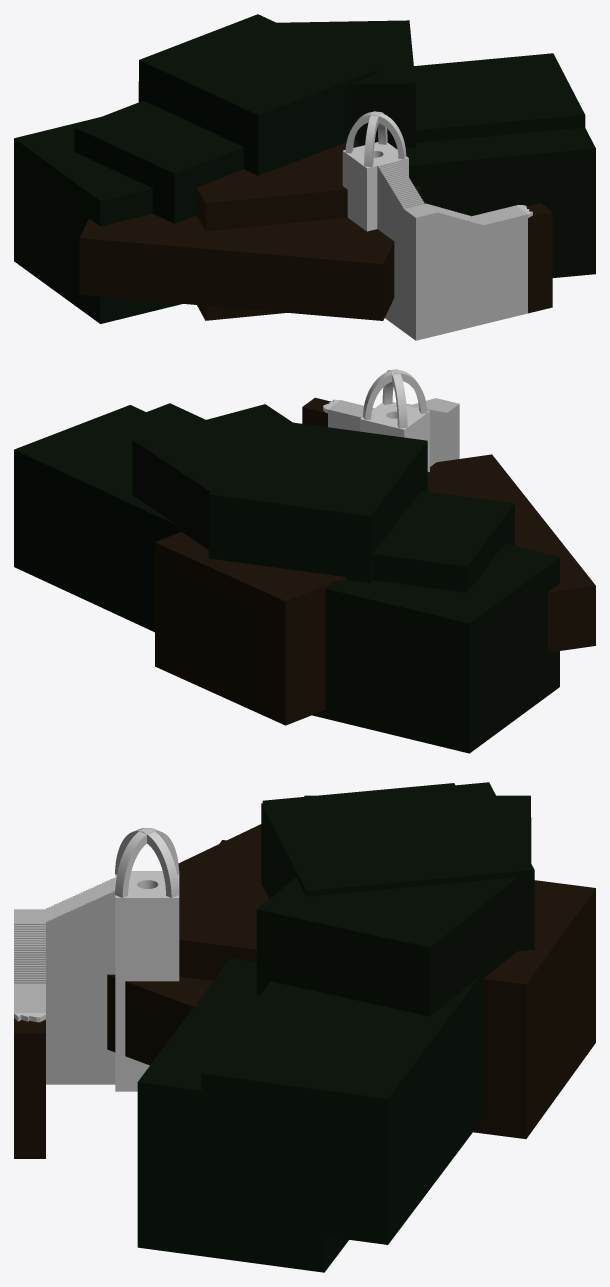
Rendered from ElevatorBridge1.fbx.
3 renders of one model, top to bottom at view 1: azimuth 30°, elevation 25°; view 2: azimuth 150°, elevation 25°; view 3: azimuth 270°, elevation 25°, orthographic. The views are drawn at different scales.
Visible parts, largest first — view 1: Box67, Box523, Box545, Box267, Box524, Box520, Box10, Box268, Box521, Box8, Boolean8, Box11 (+5 smaller); view 2: Box267, Box523, Box268, Box524, Box520, Box521, Box67, Boolean8, Boolean33, Box8, Box10, Boolean32 (+3 smaller); view 3: Box524, Box545, Box268, Box521, Box523, Box9, Boolean8, Box67, Box11, Stairs5, Stairs6, Boolean32 (+3 smaller).
Part boxes in pixels (bbox=[...]): Box67: bbox=[79, 186, 420, 320]; Box523: bbox=[139, 14, 377, 175]; Box545: bbox=[396, 127, 595, 277]; Box267: bbox=[14, 117, 182, 323]; Box524: bbox=[414, 53, 585, 142]; Box520: bbox=[74, 100, 243, 223]; Box10: bbox=[437, 205, 527, 335]; Box268: bbox=[138, 81, 359, 320]; Box521: bbox=[277, 20, 415, 148]; Box8: bbox=[403, 204, 436, 340]; Boolean8: bbox=[342, 142, 408, 231]; Box11: bbox=[526, 203, 552, 313]; Box267: bbox=[312, 543, 559, 753]; Box523: bbox=[208, 419, 427, 582]; Box268: bbox=[155, 472, 489, 725]; Box524: bbox=[14, 405, 178, 632]; Box520: bbox=[373, 490, 514, 592]; Box521: bbox=[132, 404, 292, 549]; Box67: bbox=[430, 454, 595, 652]; Boolean8: bbox=[360, 402, 429, 472]; Boolean33: bbox=[363, 370, 427, 420]; Box8: bbox=[427, 398, 459, 460]; Box10: bbox=[328, 400, 373, 431]; Boolean32: bbox=[382, 369, 407, 428]; Box524: bbox=[201, 976, 480, 1244]; Box545: bbox=[137, 958, 348, 1272]; Box268: bbox=[179, 840, 595, 1138]; Box521: bbox=[256, 877, 517, 1121]; Box523: bbox=[261, 782, 534, 951]; Box9: bbox=[46, 922, 115, 1084]; Boolean8: bbox=[115, 871, 179, 1091]; Box67: bbox=[107, 824, 261, 1065]; Box11: bbox=[14, 1018, 45, 1158]; Stairs5: bbox=[46, 878, 115, 922]; Stairs6: bbox=[14, 922, 45, 983]; Boolean32: bbox=[115, 828, 178, 897].
Size of the model in its own units: 14599 by 10911 by 5744.
